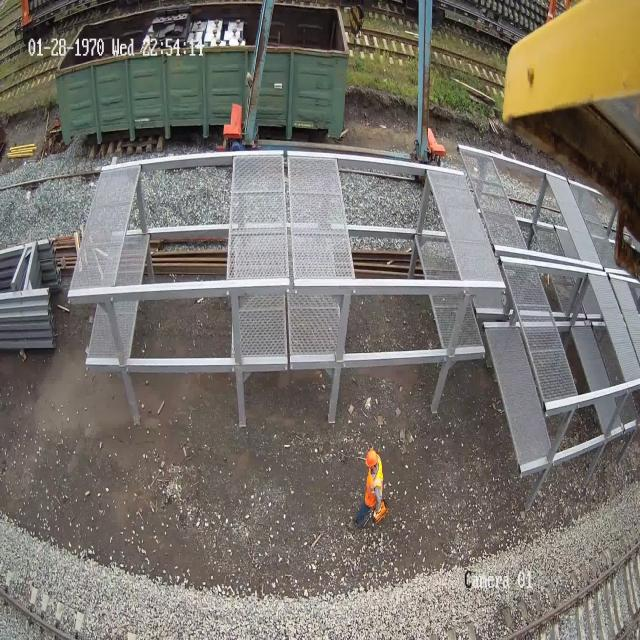Helmet: (365, 448, 378, 468)
Person: (356, 448, 388, 526)
